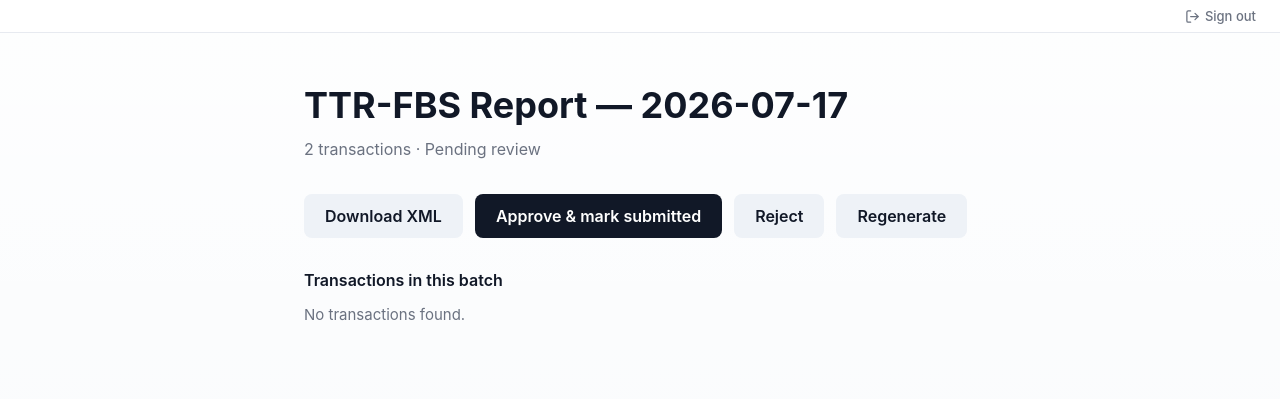
ReviewBatchPage › surfaces an error and downloads nothing when the export cannot be recorded
Click the button "Download XML": x=383, y=216 [304,194,463,238]
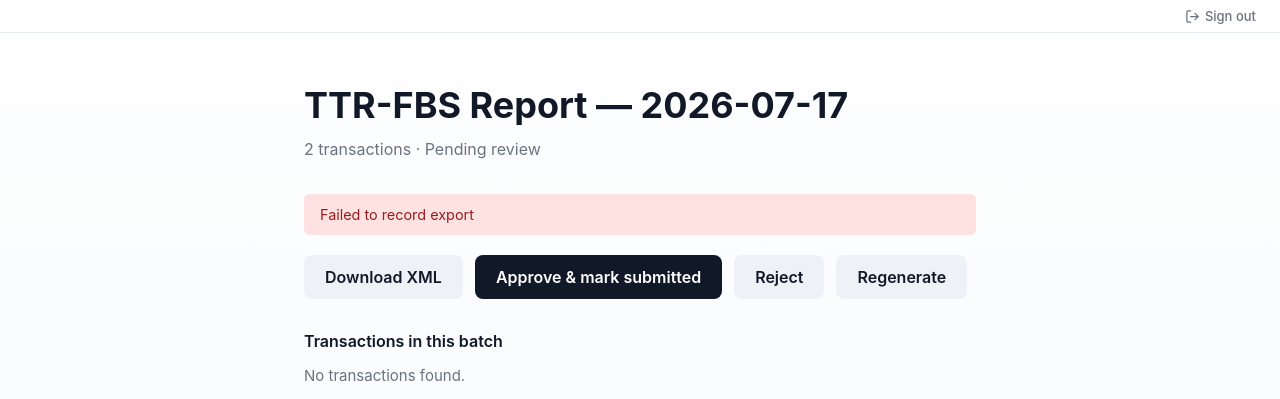
expect the text "Failed to record export" is shown: met, box [304,194,976,235]
